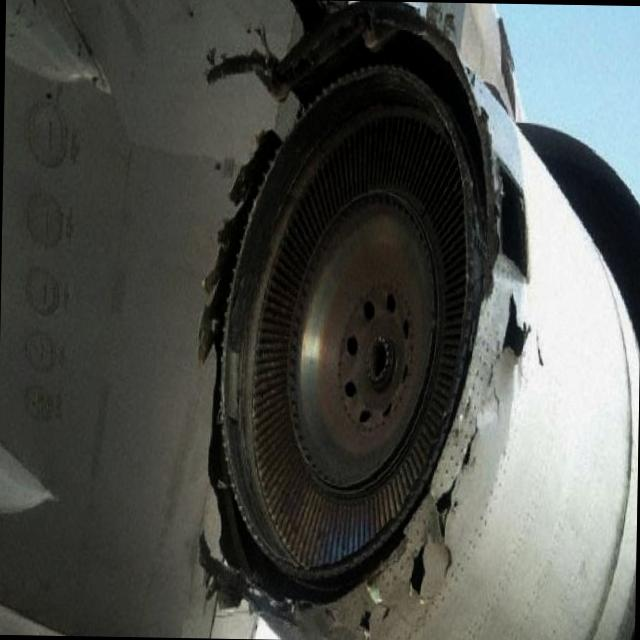crack: (198, 131, 424, 606), (207, 6, 478, 146), (436, 429, 477, 537), (500, 163, 526, 275), (410, 546, 425, 595), (363, 613, 372, 624)
